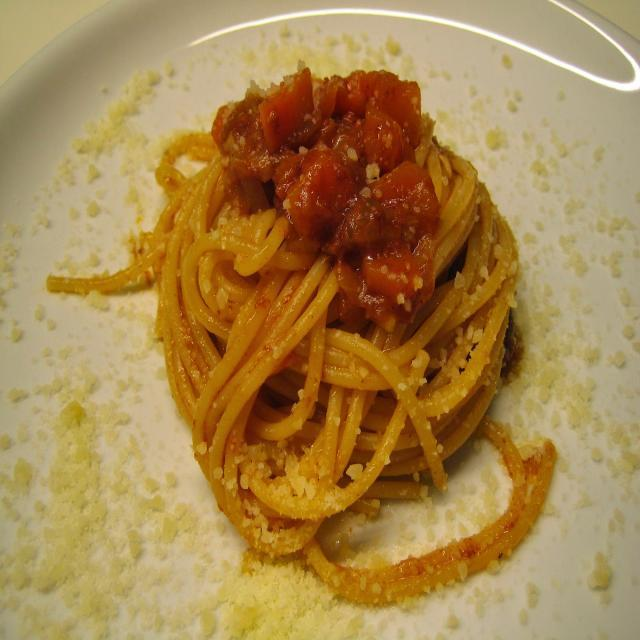Pasta al ragu: (123, 25, 596, 579)
